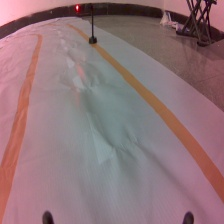red: (74, 1, 97, 45)
